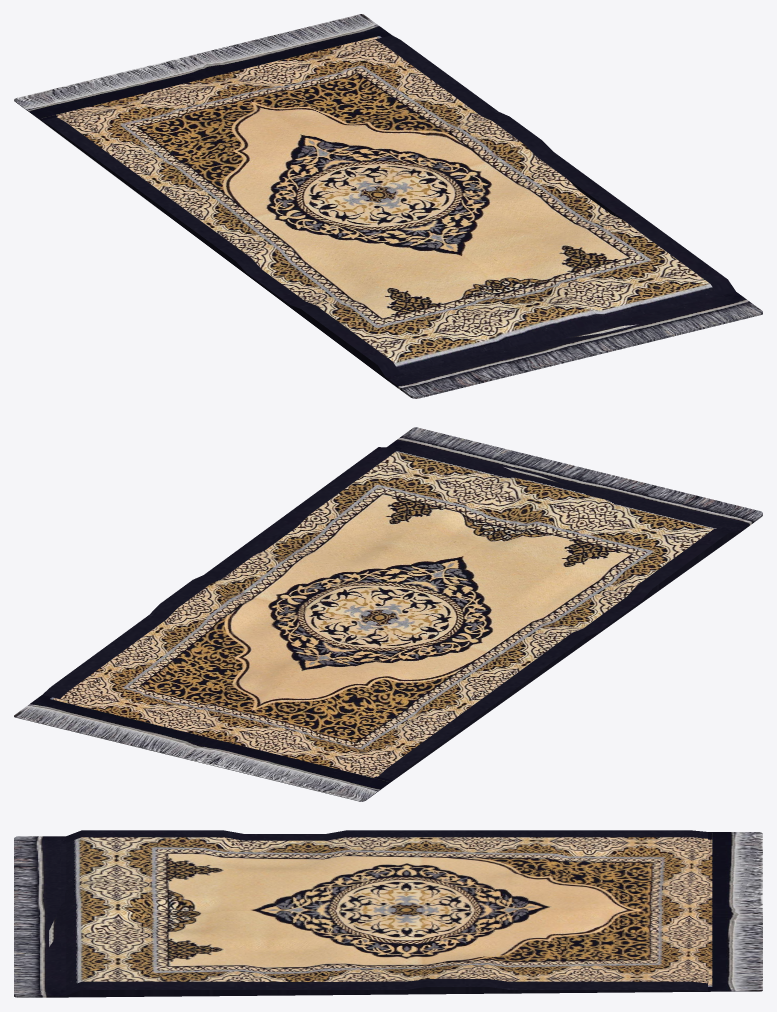
Rendered from prayermat.fbx.
3 renders of one model, top to bottom at view 1: azimuth 30°, elevation 25°; view 2: azimuth 150°, elevation 25°; view 3: azimuth 270°, elevation 25°, orthographic. The views are drawn at different scales.
Visible parts, largest first — view 1: Plane.005; view 2: Plane.005; view 3: Plane.005.
Boxes of the visible parts, x1,y1,x2,y2 form: Plane.005: (14,14,762,398); Plane.005: (14,427,762,801); Plane.005: (14,830,762,997).
Size of the model in its own units: 351 by 11.15 by 698.
